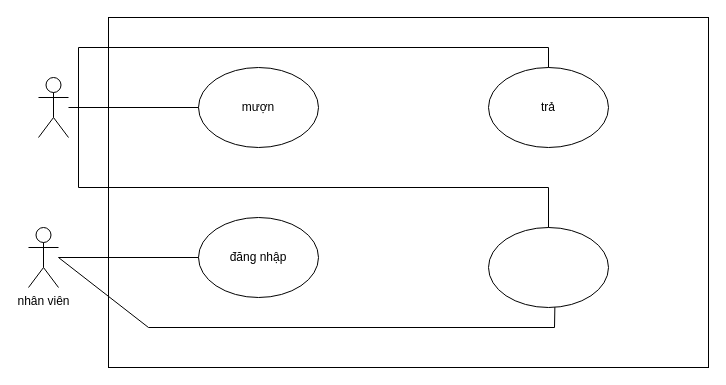
Image size: 726x385. Some labels were removed from this diagram. Each missing label, with the centre of its shape:
"tìm" goes at [548,267].
"độc giả" goes at [53,107].
